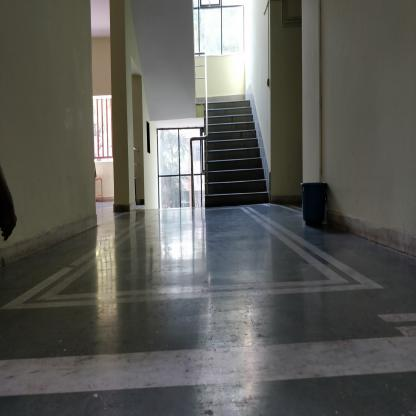stairs: (211, 101, 251, 211)
